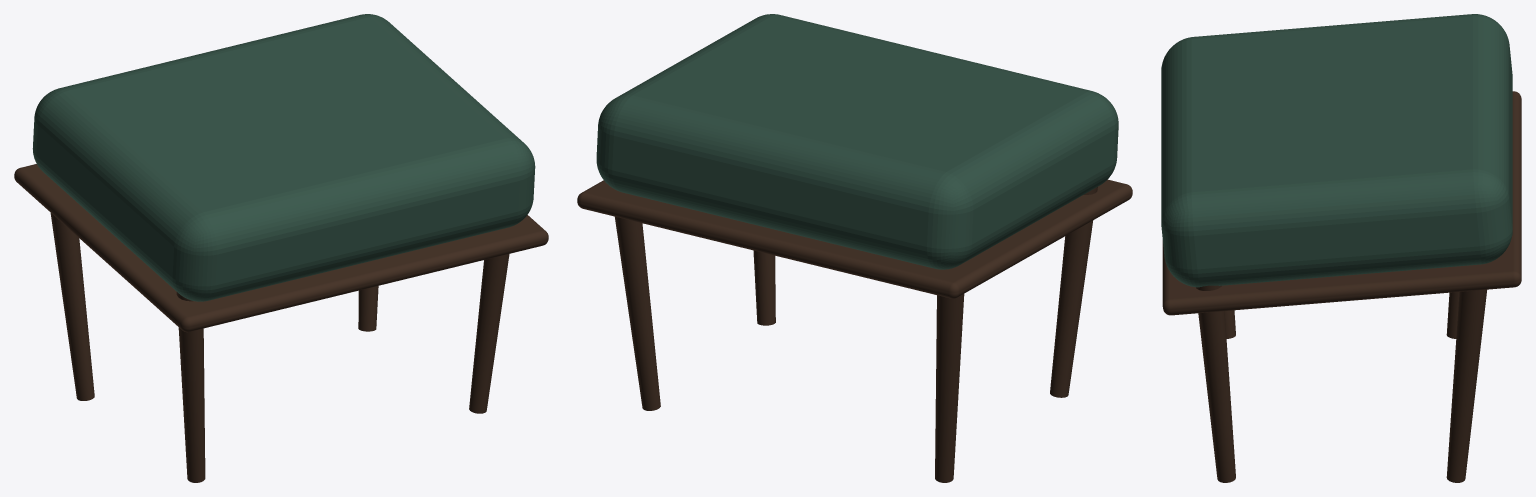
The model's file is atelier-ottoman-timber-moss.glb.
3 views of the same model, side by side, from view 1: azimuth 30°, elevation 25°; view 2: azimuth 150°, elevation 25°; view 3: azimuth 270°, elevation 25° (orthographic). The views are drawn at different scales.
Size of the model in its own units: 0.5612 by 0.4442 by 0.4603.
